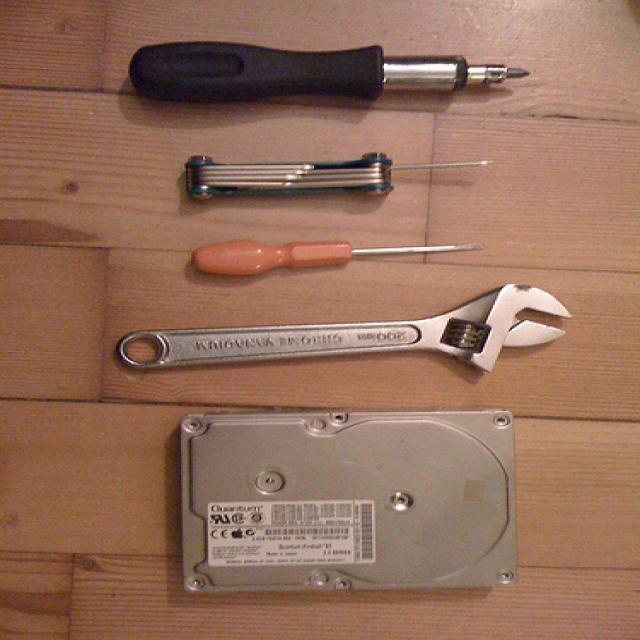wrench: (108, 268, 590, 394)
